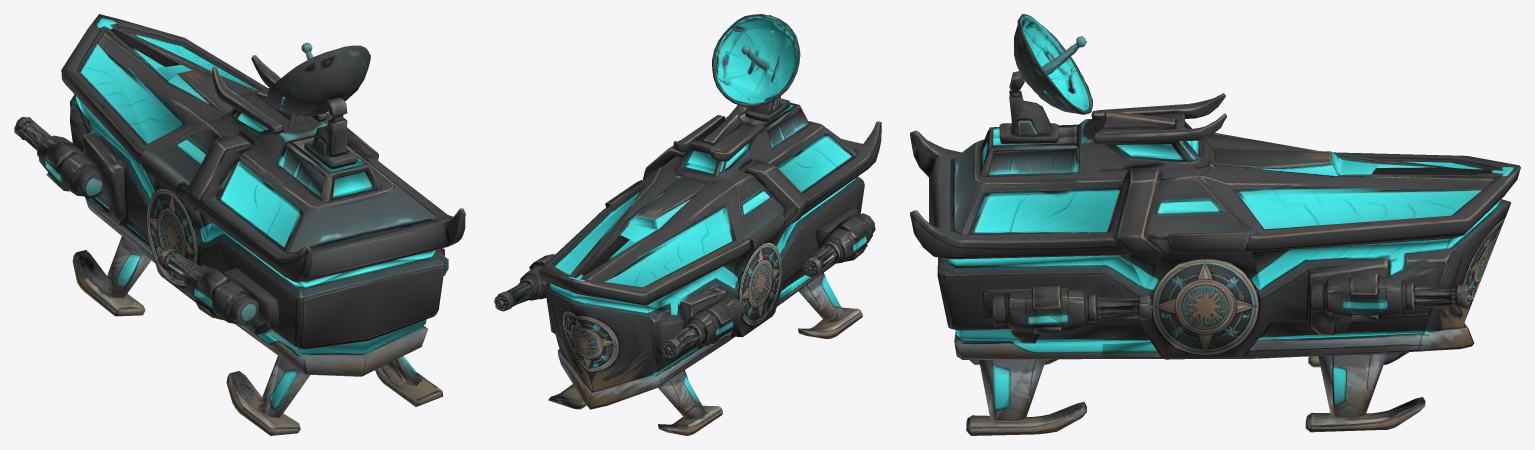
The model's file is cyan_skiff.glb.
The picture shows the model from 3 angles, left to right: view 1: azimuth 30°, elevation 25°; view 2: azimuth 150°, elevation 25°; view 3: azimuth 270°, elevation 25°; orthographic projection. The views are drawn at different scales.
Visible parts, largest first — view 1: Body, Trim; view 2: Body, Trim; view 3: Body, Trim.
Part boxes in pixels (x1,y1,x2,y2): Body: (14,14,465,435); Trim: (46,24,435,415); Body: (494,14,881,435); Trim: (549,15,866,374); Body: (910,14,1520,435); Trim: (948,15,1503,419).
Bounding box in the file's own units: 4.21 × 5.91 × 8.71.
2 materials, 2 textured.
